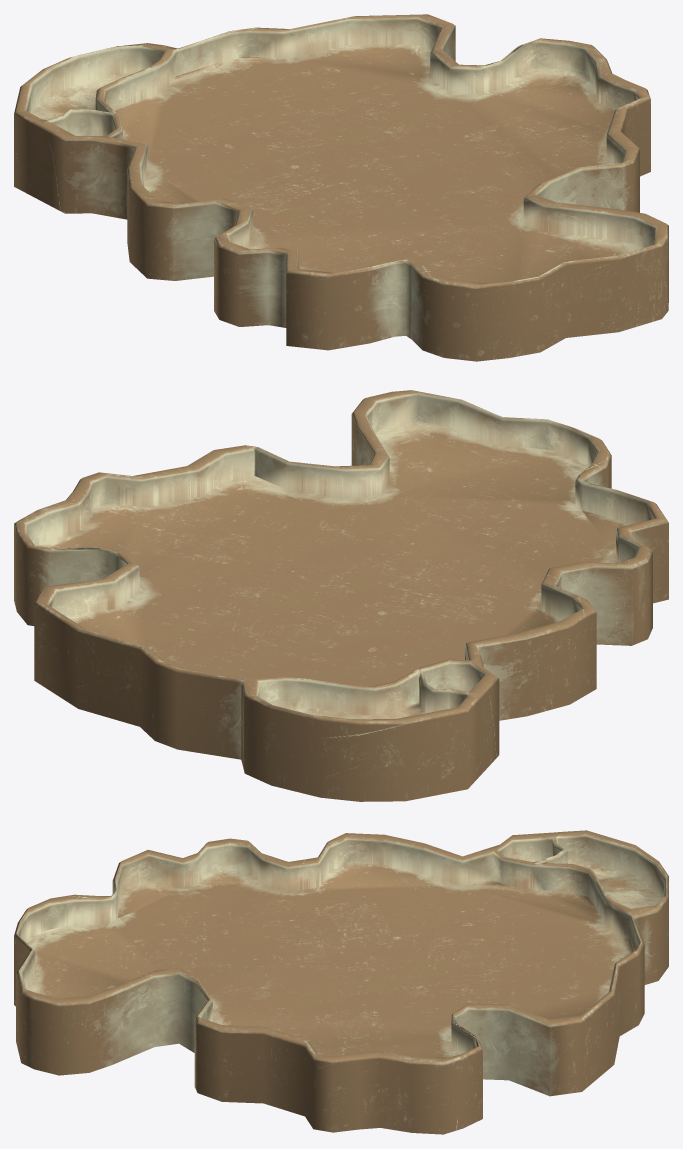
File: Plates_Big_1.fbx
3 renders of one model, top to bottom at view 1: azimuth 30°, elevation 25°; view 2: azimuth 150°, elevation 25°; view 3: azimuth 270°, elevation 25°, orthographic. The views are drawn at different scales.
Visible parts, largest first — view 1: pCylinder4; view 2: pCylinder4; view 3: pCylinder4.
Boxes of the visible parts, x1,y1,x2,y2 form: pCylinder4: (14, 14, 668, 361); pCylinder4: (14, 390, 668, 801); pCylinder4: (14, 830, 668, 1134).
Bounding box in the file's own units: 25.27 × 3.71 × 29.88.
